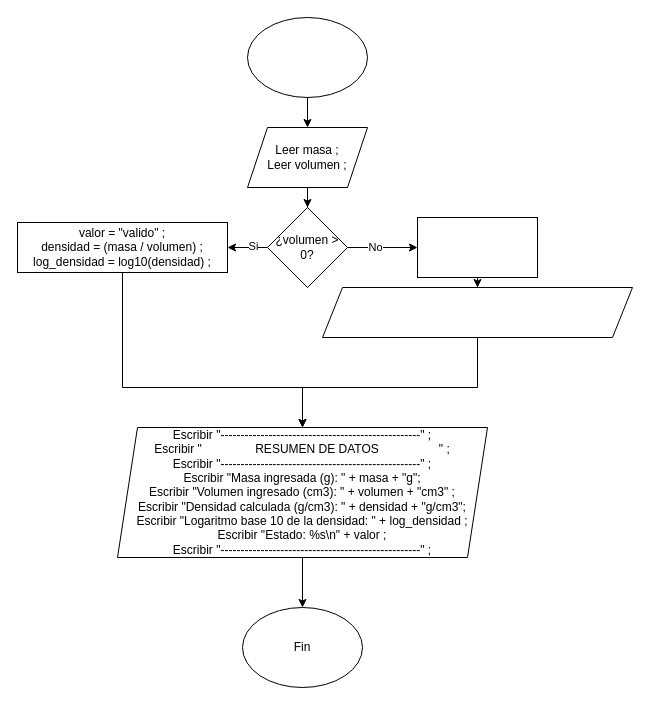
Some shapes in this 650 by 705 pixel diagram are drawn without their labels. Each missing label, with the centre of its shape:
Escribir "Error: Volumen debe ser mayor a cero" ;: point 477,312
Inicio: point 307,57
valor = "error" ;: point 477,247
